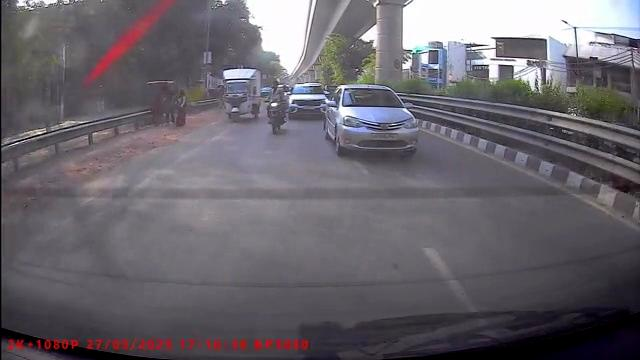motorcycle_without_helmet: (266, 80, 288, 135)
